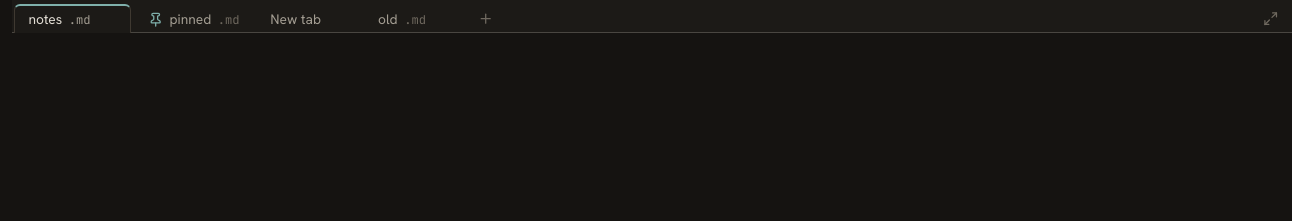
Test: a middle click closes a tab › a right click does not close the tab and still opens the context menu (polish)
This screenshot has width=1292, height=221.
Right-click the element showing "notes .md" at (73, 19), box top-left (14, 4), bottom-right (131, 33)
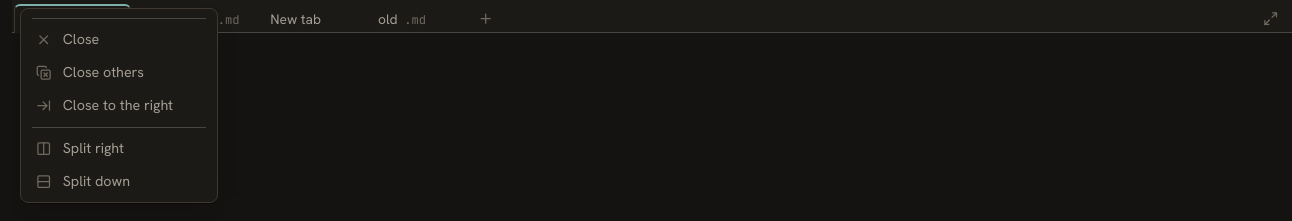
Check: the button "Close others" is shown, box top-left (25, 56), bottom-right (213, 89)
